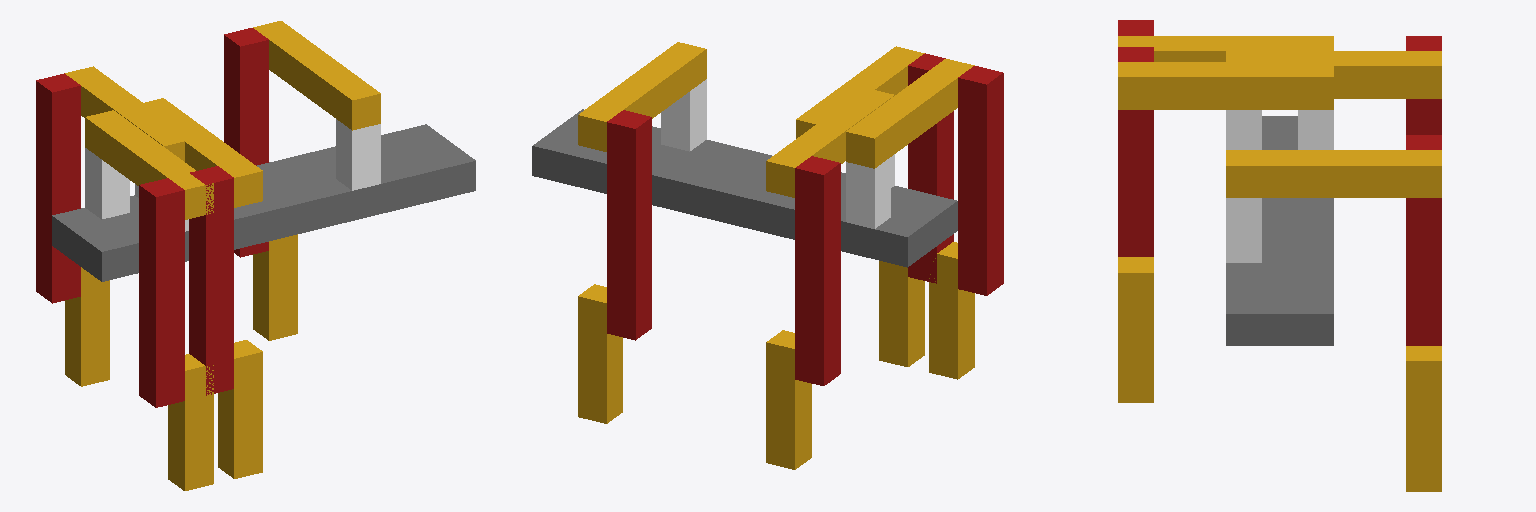
The robot description file, URDF, robot "v0":
<?xml version="1.0" encoding="utf-8"?>
<!-- =================================================================================== -->
<!-- |    This document was autogenerated by xacro from ../robots/v0variants/xacros/v0_4l_25.xacro | -->
<!-- |    EDITING THIS FILE BY HAND IS NOT RECOMMENDED                                 | -->
<!-- =================================================================================== -->
<robot name="v0">
  <material name="grey">
    <color rgba="0.5 0.5 0.5 1"/>
  </material>
  <material name="white">
    <color rgba="1 1 1 1"/>
  </material>
  <material name="yellow">
    <color rgba="0.91 0.7 0.14 1"/>
  </material>
  <material name="red">
    <color rgba="0.71 0.14 0.14 1"/>
  </material>
  <link name="body">
    <visual>
      <geometry>
        <box size="1.3 0.3 0.1"/>
      </geometry>
      <material name="grey"/>
      <origin rpy="0 0 0" xyz="0 0 0.7"/>
    </visual>
    <collision>
      <geometry>
        <box size="1.3 0.3 0.1"/>
      </geometry>
      <origin rpy="0 0 0" xyz="0 0 0.7"/>
    </collision>
    <inertial>
      <mass value="99.84"/>
      <inertia ixx="0.832" ixy="0.0" ixz="0.0" iyy="14.144" iyz="0.0" izz="14.8096"/>
    </inertial>
  </link>
  <link name="l1_segment_1">
    <visual>
      <geometry>
        <box size="0.1 0.1 0.2"/>
      </geometry>
      <material name="white"/>
      <origin rpy="0 0 0" xyz="0 0 0.1"/>
    </visual>
    <collision>
      <geometry>
        <box size="0.1 0.1 0.2"/>
      </geometry>
      <origin rpy="0 0 0" xyz="0 0 0.1"/>
    </collision>
    <inertial>
      <mass value="5.12"/>
      <inertia ixx="0.0213333333333" ixy="0.0" ixz="0.0" iyy="0.0213333333333" iyz="0.0" izz="0.00853333333333"/>
    </inertial>
  </link>
  <joint name="l1_base_to_joint_1" type="fixed">
    <parent link="body"/>
    <child link="l1_segment_1"/>
    <origin rpy="0 0 0" xyz="-0.3831171571752639 -0.1 0.75"/>
  </joint>
  <link name="l1_segment_2_HIP">
    <visual>
      <geometry>
        <box size="0.1 0.6 0.1"/>
      </geometry>
      <material name="yellow"/>
      <origin rpy="0 0 0" xyz="0 0.25 0"/>
    </visual>
    <collision>
      <geometry>
        <box size="0.1 0.6 0.1"/>
      </geometry>
      <origin rpy="0 0 0" xyz="0 0.25 0"/>
    </collision>
    <inertial>
      <mass value="15.36"/>
      <inertia ixx="0.4736" ixy="0.0" ixz="0.0" iyy="0.0256" iyz="0.0" izz="0.4736"/>
    </inertial>
  </link>
  <joint name="l1_joint_1_to_2" type="revolute">
    <parent link="l1_segment_1"/>
    <child link="l1_segment_2_HIP"/>
    <origin rpy="0 0 0" xyz="0 0 0.25"/>
    <axis xyz="0.0 0.0 1.0"/>
    <limit effort="2048" lower="-1.2" upper="1.2" velocity="20"/>
  </joint>
  <link name="l1_segment_3_THIGH">
    <visual>
      <geometry>
        <box size="0.1 0.1 0.7"/>
      </geometry>
      <material name="red"/>
      <origin rpy="0 0 0" xyz="0 0 -0.3"/>
    </visual>
    <collision>
      <geometry>
        <box size="0.1 0.1 0.7"/>
      </geometry>
      <origin rpy="0 0 0" xyz="0 0 -0.3"/>
    </collision>
    <inertial>
      <mass value="17.92"/>
      <inertia ixx="0.746666666667" ixy="0.0" ixz="0.0" iyy="0.746666666667" iyz="0.0" izz="0.0298666666667"/>
    </inertial>
  </link>
  <joint name="l1_joint_2_to_3" type="revolute">
    <parent link="l1_segment_2_HIP"/>
    <child link="l1_segment_3_THIGH"/>
    <origin rpy="0 0 0" xyz="-0.1 0.5 0"/>
    <axis xyz="1.0 0.0 0.0"/>
    <limit effort="2048" lower="-0.2" upper="0.75" velocity="20"/>
  </joint>
  <link name="l1_segment_4_FOOT">
    <visual>
      <geometry>
        <box size="0.1 0.1 0.4"/>
      </geometry>
      <material name="yellow"/>
      <origin rpy="0 0 0" xyz="0 0 -0.2"/>
    </visual>
    <collision>
      <geometry>
        <box size="0.1 0.1 0.4"/>
      </geometry>
      <origin rpy="0 0 0" xyz="0 0 -0.2"/>
    </collision>
    <inertial>
      <mass value="10.24"/>
      <inertia ixx="0.145066666667" ixy="0.0" ixz="0.0" iyy="0.145066666667" iyz="0.0" izz="0.0170666666667"/>
    </inertial>
  </link>
  <joint name="l1_joint_3_to_4_FOOT" type="revolute">
    <parent link="l1_segment_3_THIGH"/>
    <child link="l1_segment_4_FOOT"/>
    <origin rpy="0 0 0" xyz="0.1 0 -0.55"/>
    <axis xyz="1.0 0.0 0.0"/>
    <limit effort="2048" lower="-0.2" upper="0.5" velocity="20"/>
  </joint>
  <link name="r2_segment_1">
    <visual>
      <geometry>
        <box size="0.1 0.1 0.2"/>
      </geometry>
      <material name="white"/>
      <origin rpy="0 0 0" xyz="0 0 0.1"/>
    </visual>
    <collision>
      <geometry>
        <box size="0.1 0.1 0.2"/>
      </geometry>
      <origin rpy="0 0 0" xyz="0 0 0.1"/>
    </collision>
    <inertial>
      <mass value="5.12"/>
      <inertia ixx="0.0213333333333" ixy="0.0" ixz="0.0" iyy="0.0213333333333" iyz="0.0" izz="0.00853333333333"/>
    </inertial>
  </link>
  <joint name="r2_base_to_joint_1" type="fixed">
    <parent link="body"/>
    <child link="r2_segment_1"/>
    <origin rpy="0 0 0" xyz="-0.31262280437007955 0.1 0.75"/>
  </joint>
  <link name="r2_segment_2_HIP">
    <visual>
      <geometry>
        <box size="0.1 0.6 0.1"/>
      </geometry>
      <material name="yellow"/>
      <origin rpy="0 0 0" xyz="0 -0.25 0"/>
    </visual>
    <collision>
      <geometry>
        <box size="0.1 0.6 0.1"/>
      </geometry>
      <origin rpy="0 0 0" xyz="0 -0.25 0"/>
    </collision>
    <inertial>
      <mass value="15.36"/>
      <inertia ixx="0.4736" ixy="0.0" ixz="0.0" iyy="0.0256" iyz="0.0" izz="0.4736"/>
    </inertial>
  </link>
  <joint name="r2_joint_1_to_2" type="revolute">
    <parent link="r2_segment_1"/>
    <child link="r2_segment_2_HIP"/>
    <origin rpy="0 0 0" xyz="0 0 0.25"/>
    <axis xyz="0.0 0.0 1.0"/>
    <limit effort="2048" lower="-1.2" upper="1.2" velocity="20"/>
  </joint>
  <link name="r2_segment_3_THIGH">
    <visual>
      <geometry>
        <box size="0.1 0.1 0.7"/>
      </geometry>
      <material name="red"/>
      <origin rpy="0 0 0" xyz="0 0 -0.3"/>
    </visual>
    <collision>
      <geometry>
        <box size="0.1 0.1 0.7"/>
      </geometry>
      <origin rpy="0 0 0" xyz="0 0 -0.3"/>
    </collision>
    <inertial>
      <mass value="17.92"/>
      <inertia ixx="0.746666666667" ixy="0.0" ixz="0.0" iyy="0.746666666667" iyz="0.0" izz="0.0298666666667"/>
    </inertial>
  </link>
  <joint name="r2_joint_2_to_3" type="revolute">
    <parent link="r2_segment_2_HIP"/>
    <child link="r2_segment_3_THIGH"/>
    <origin rpy="0 0 0" xyz="-0.1 -0.5 0"/>
    <axis xyz="1.0 0.0 0.0"/>
    <limit effort="2048" lower="-0.75" upper="0.2" velocity="20"/>
  </joint>
  <link name="r2_segment_4_FOOT">
    <visual>
      <geometry>
        <box size="0.1 0.1 0.4"/>
      </geometry>
      <material name="yellow"/>
      <origin rpy="0 0 0" xyz="0 0 -0.2"/>
    </visual>
    <collision>
      <geometry>
        <box size="0.1 0.1 0.4"/>
      </geometry>
      <origin rpy="0 0 0" xyz="0 0 -0.2"/>
    </collision>
    <inertial>
      <mass value="10.24"/>
      <inertia ixx="0.145066666667" ixy="0.0" ixz="0.0" iyy="0.145066666667" iyz="0.0" izz="0.0170666666667"/>
    </inertial>
  </link>
  <joint name="r2_joint_3_to_4_FOOT" type="revolute">
    <parent link="r2_segment_3_THIGH"/>
    <child link="r2_segment_4_FOOT"/>
    <origin rpy="0 0 0" xyz="0.1 0 -0.55"/>
    <axis xyz="1.0 0.0 0.0"/>
    <limit effort="2048" lower="-0.5" upper="0.2" velocity="20"/>
  </joint>
  <link name="l3_segment_1">
    <visual>
      <geometry>
        <box size="0.1 0.1 0.2"/>
      </geometry>
      <material name="white"/>
      <origin rpy="0 0 0" xyz="0 0 0.1"/>
    </visual>
    <collision>
      <geometry>
        <box size="0.1 0.1 0.2"/>
      </geometry>
      <origin rpy="0 0 0" xyz="0 0 0.1"/>
    </collision>
    <inertial>
      <mass value="5.12"/>
      <inertia ixx="0.0213333333333" ixy="0.0" ixz="0.0" iyy="0.0213333333333" iyz="0.0" izz="0.00853333333333"/>
    </inertial>
  </link>
  <joint name="l3_base_to_joint_1" type="fixed">
    <parent link="body"/>
    <child link="l3_segment_1"/>
    <origin rpy="0 0 0" xyz="0.26972710168951053 -0.1 0.75"/>
  </joint>
  <link name="l3_segment_2_HIP">
    <visual>
      <geometry>
        <box size="0.1 0.6 0.1"/>
      </geometry>
      <material name="yellow"/>
      <origin rpy="0 0 0" xyz="0 0.25 0"/>
    </visual>
    <collision>
      <geometry>
        <box size="0.1 0.6 0.1"/>
      </geometry>
      <origin rpy="0 0 0" xyz="0 0.25 0"/>
    </collision>
    <inertial>
      <mass value="15.36"/>
      <inertia ixx="0.4736" ixy="0.0" ixz="0.0" iyy="0.0256" iyz="0.0" izz="0.4736"/>
    </inertial>
  </link>
  <joint name="l3_joint_1_to_2" type="revolute">
    <parent link="l3_segment_1"/>
    <child link="l3_segment_2_HIP"/>
    <origin rpy="0 0 0" xyz="0 0 0.25"/>
    <axis xyz="0.0 0.0 1.0"/>
    <limit effort="2048" lower="-1.2" upper="1.2" velocity="20"/>
  </joint>
  <link name="l3_segment_3_THIGH">
    <visual>
      <geometry>
        <box size="0.1 0.1 0.7"/>
      </geometry>
      <material name="red"/>
      <origin rpy="0 0 0" xyz="0 0 -0.3"/>
    </visual>
    <collision>
      <geometry>
        <box size="0.1 0.1 0.7"/>
      </geometry>
      <origin rpy="0 0 0" xyz="0 0 -0.3"/>
    </collision>
    <inertial>
      <mass value="17.92"/>
      <inertia ixx="0.746666666667" ixy="0.0" ixz="0.0" iyy="0.746666666667" iyz="0.0" izz="0.0298666666667"/>
    </inertial>
  </link>
  <joint name="l3_joint_2_to_3" type="revolute">
    <parent link="l3_segment_2_HIP"/>
    <child link="l3_segment_3_THIGH"/>
    <origin rpy="0 0 0" xyz="-0.1 0.5 0"/>
    <axis xyz="1.0 0.0 0.0"/>
    <limit effort="2048" lower="-0.2" upper="0.75" velocity="20"/>
  </joint>
  <link name="l3_segment_4_FOOT">
    <visual>
      <geometry>
        <box size="0.1 0.1 0.4"/>
      </geometry>
      <material name="yellow"/>
      <origin rpy="0 0 0" xyz="0 0 -0.2"/>
    </visual>
    <collision>
      <geometry>
        <box size="0.1 0.1 0.4"/>
      </geometry>
      <origin rpy="0 0 0" xyz="0 0 -0.2"/>
    </collision>
    <inertial>
      <mass value="10.24"/>
      <inertia ixx="0.145066666667" ixy="0.0" ixz="0.0" iyy="0.145066666667" iyz="0.0" izz="0.0170666666667"/>
    </inertial>
  </link>
  <joint name="l3_joint_3_to_4_FOOT" type="revolute">
    <parent link="l3_segment_3_THIGH"/>
    <child link="l3_segment_4_FOOT"/>
    <origin rpy="0 0 0" xyz="0.1 0 -0.55"/>
    <axis xyz="1.0 0.0 0.0"/>
    <limit effort="2048" lower="-0.2" upper="0.5" velocity="20"/>
  </joint>
  <link name="r4_segment_1">
    <visual>
      <geometry>
        <box size="0.1 0.1 0.2"/>
      </geometry>
      <material name="white"/>
      <origin rpy="0 0 0" xyz="0 0 0.1"/>
    </visual>
    <collision>
      <geometry>
        <box size="0.1 0.1 0.2"/>
      </geometry>
      <origin rpy="0 0 0" xyz="0 0 0.1"/>
    </collision>
    <inertial>
      <mass value="5.12"/>
      <inertia ixx="0.0213333333333" ixy="0.0" ixz="0.0" iyy="0.0213333333333" iyz="0.0" izz="0.00853333333333"/>
    </inertial>
  </link>
  <joint name="r4_base_to_joint_1" type="fixed">
    <parent link="body"/>
    <child link="r4_segment_1"/>
    <origin rpy="0 0 0" xyz="-0.48545073100124186 0.1 0.75"/>
  </joint>
  <link name="r4_segment_2_HIP">
    <visual>
      <geometry>
        <box size="0.1 0.6 0.1"/>
      </geometry>
      <material name="yellow"/>
      <origin rpy="0 0 0" xyz="0 -0.25 0"/>
    </visual>
    <collision>
      <geometry>
        <box size="0.1 0.6 0.1"/>
      </geometry>
      <origin rpy="0 0 0" xyz="0 -0.25 0"/>
    </collision>
    <inertial>
      <mass value="15.36"/>
      <inertia ixx="0.4736" ixy="0.0" ixz="0.0" iyy="0.0256" iyz="0.0" izz="0.4736"/>
    </inertial>
  </link>
  <joint name="r4_joint_1_to_2" type="revolute">
    <parent link="r4_segment_1"/>
    <child link="r4_segment_2_HIP"/>
    <origin rpy="0 0 0" xyz="0 0 0.25"/>
    <axis xyz="0.0 0.0 1.0"/>
    <limit effort="2048" lower="-1.2" upper="1.2" velocity="20"/>
  </joint>
  <link name="r4_segment_3_THIGH">
    <visual>
      <geometry>
        <box size="0.1 0.1 0.7"/>
      </geometry>
      <material name="red"/>
      <origin rpy="0 0 0" xyz="0 0 -0.3"/>
    </visual>
    <collision>
      <geometry>
        <box size="0.1 0.1 0.7"/>
      </geometry>
      <origin rpy="0 0 0" xyz="0 0 -0.3"/>
    </collision>
    <inertial>
      <mass value="17.92"/>
      <inertia ixx="0.746666666667" ixy="0.0" ixz="0.0" iyy="0.746666666667" iyz="0.0" izz="0.0298666666667"/>
    </inertial>
  </link>
  <joint name="r4_joint_2_to_3" type="revolute">
    <parent link="r4_segment_2_HIP"/>
    <child link="r4_segment_3_THIGH"/>
    <origin rpy="0 0 0" xyz="-0.1 -0.5 0"/>
    <axis xyz="1.0 0.0 0.0"/>
    <limit effort="2048" lower="-0.75" upper="0.2" velocity="20"/>
  </joint>
  <link name="r4_segment_4_FOOT">
    <visual>
      <geometry>
        <box size="0.1 0.1 0.4"/>
      </geometry>
      <material name="yellow"/>
      <origin rpy="0 0 0" xyz="0 0 -0.2"/>
    </visual>
    <collision>
      <geometry>
        <box size="0.1 0.1 0.4"/>
      </geometry>
      <origin rpy="0 0 0" xyz="0 0 -0.2"/>
    </collision>
    <inertial>
      <mass value="10.24"/>
      <inertia ixx="0.145066666667" ixy="0.0" ixz="0.0" iyy="0.145066666667" iyz="0.0" izz="0.0170666666667"/>
    </inertial>
  </link>
  <joint name="r4_joint_3_to_4_FOOT" type="revolute">
    <parent link="r4_segment_3_THIGH"/>
    <child link="r4_segment_4_FOOT"/>
    <origin rpy="0 0 0" xyz="0.1 0 -0.55"/>
    <axis xyz="1.0 0.0 0.0"/>
    <limit effort="2048" lower="-0.5" upper="0.2" velocity="20"/>
  </joint>
</robot>

--- Facts derived from the render (not from the file) ---
3 views of the same robot in one strip: view 1: azimuth 30°, elevation 25°; view 2: azimuth 150°, elevation 25°; view 3: azimuth 270°, elevation 25° (orthographic).
Model v0 with 17 links and 16 joints (12 revolute, 4 fixed), rooted at body, posed all joints at 0.
Visible links, largest first — view 1: body, r4_segment_3_THIGH, l1_segment_3_THIGH, r2_segment_3_THIGH, l3_segment_2_HIP, l3_segment_3_THIGH, r4_segment_2_HIP, r2_segment_4_FOOT, r4_segment_4_FOOT, l1_segment_4_FOOT, l3_segment_4_FOOT, r2_segment_2_HIP (+3 smaller); view 2: body, l1_segment_3_THIGH, r4_segment_3_THIGH, l3_segment_3_THIGH, r4_segment_2_HIP, l3_segment_2_HIP, l1_segment_4_FOOT, l3_segment_4_FOOT, r4_segment_4_FOOT, r2_segment_3_THIGH, r2_segment_4_FOOT, l1_segment_2_HIP (+3 smaller); view 3: body, l3_segment_2_HIP, r2_segment_2_HIP, l1_segment_2_HIP, l3_segment_3_THIGH, r2_segment_3_THIGH, r2_segment_4_FOOT, l3_segment_4_FOOT, r4_segment_2_HIP, l3_segment_1, l1_segment_3_THIGH, l1_segment_1 (+2 smaller).
Boxes of the visible links, bbox=[...] form: body: bbox=[52, 124, 475, 281]; r4_segment_3_THIGH: bbox=[139, 178, 184, 407]; l1_segment_3_THIGH: bbox=[36, 73, 80, 303]; r2_segment_3_THIGH: bbox=[189, 166, 233, 395]; l3_segment_2_HIP: bbox=[253, 21, 380, 130]; l3_segment_3_THIGH: bbox=[224, 28, 268, 257]; r4_segment_2_HIP: bbox=[85, 110, 213, 219]; r2_segment_4_FOOT: bbox=[218, 340, 262, 478]; r4_segment_4_FOOT: bbox=[168, 354, 213, 490]; l1_segment_4_FOOT: bbox=[65, 267, 109, 386]; l3_segment_4_FOOT: bbox=[253, 234, 297, 340]; r2_segment_2_HIP: bbox=[144, 98, 262, 207]; body: bbox=[532, 109, 957, 267]; l1_segment_3_THIGH: bbox=[795, 156, 840, 385]; r4_segment_3_THIGH: bbox=[958, 66, 1003, 295]; l3_segment_3_THIGH: bbox=[607, 110, 651, 340]; r4_segment_2_HIP: bbox=[846, 59, 974, 168]; l3_segment_2_HIP: bbox=[578, 42, 706, 151]; l1_segment_4_FOOT: bbox=[766, 330, 811, 469]; l3_segment_4_FOOT: bbox=[578, 284, 622, 423]; r4_segment_4_FOOT: bbox=[929, 242, 974, 379]; r2_segment_3_THIGH: bbox=[908, 53, 953, 283]; r2_segment_4_FOOT: bbox=[879, 261, 924, 366]; l1_segment_2_HIP: bbox=[766, 90, 894, 197]; body: bbox=[1226, 116, 1333, 345]; l3_segment_2_HIP: bbox=[1226, 150, 1441, 197]; r2_segment_2_HIP: bbox=[1118, 62, 1333, 109]; l1_segment_2_HIP: bbox=[1226, 51, 1441, 98]; l3_segment_3_THIGH: bbox=[1406, 135, 1441, 345]; r2_segment_3_THIGH: bbox=[1118, 47, 1153, 256]; r2_segment_4_FOOT: bbox=[1118, 257, 1153, 402]; l3_segment_4_FOOT: bbox=[1406, 346, 1441, 491]; r4_segment_2_HIP: bbox=[1118, 36, 1333, 61]; l3_segment_1: bbox=[1226, 198, 1261, 262]; l1_segment_3_THIGH: bbox=[1406, 36, 1441, 134]; l1_segment_1: bbox=[1226, 110, 1261, 149].
Bounding box of the posed robot: 1.3 × 0.9 × 1 m (x, y, z).
Geometry: primitives only (box / cylinder / sphere), no mesh files.